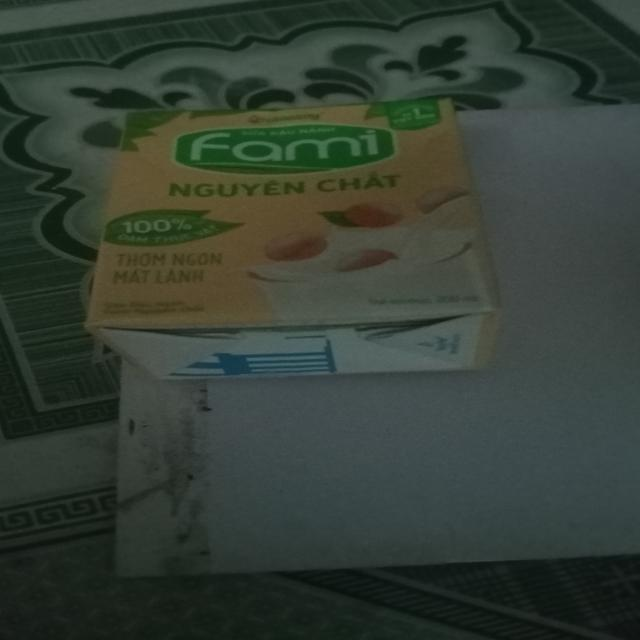Fami: (94, 97, 497, 375)
